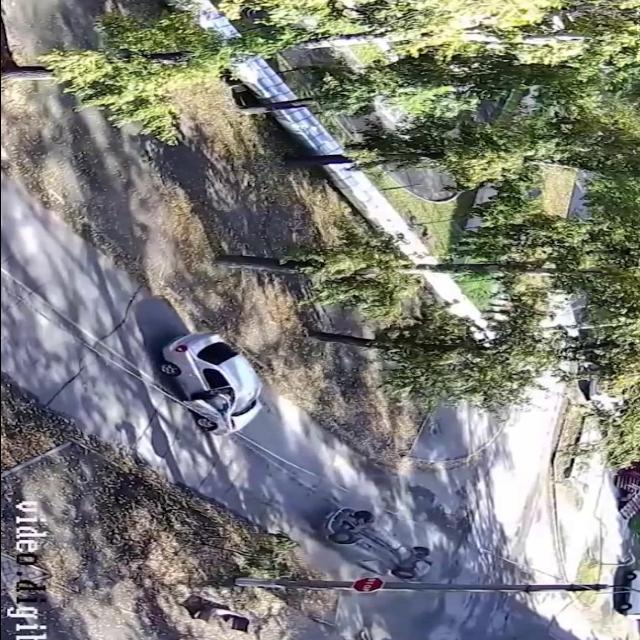accident: (306, 503, 442, 585)
